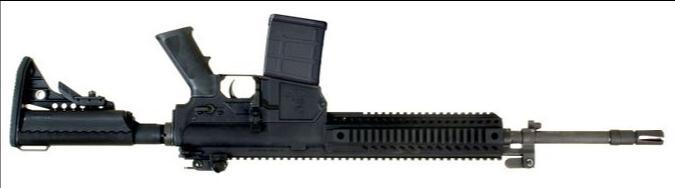gun: (4, 5, 670, 183)
